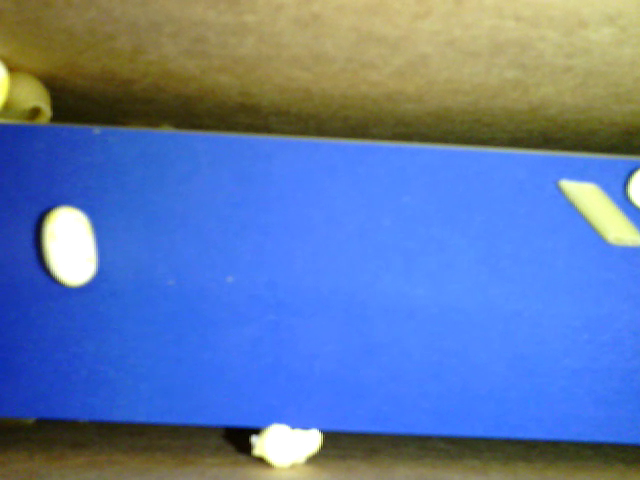penne: (555, 178, 638, 248)
shell: (1, 72, 56, 126)
